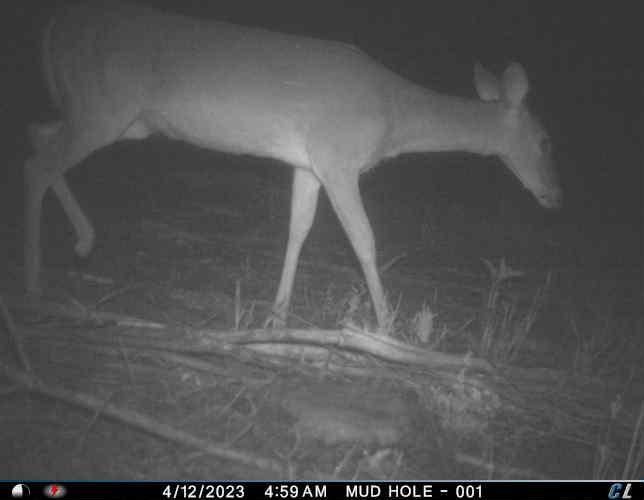Deer: (16, 0, 566, 332)
